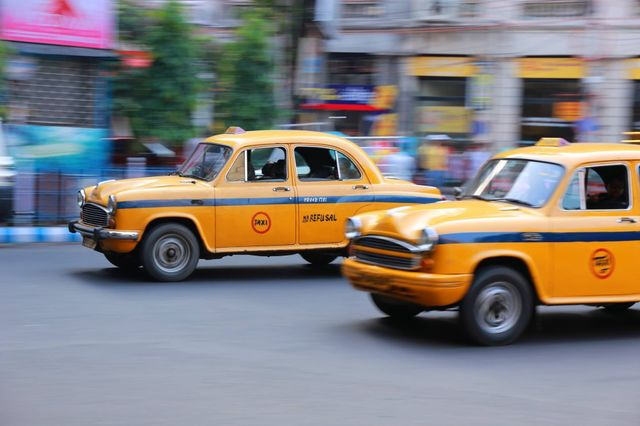taxi: (339, 131, 640, 348), (67, 125, 445, 283)
